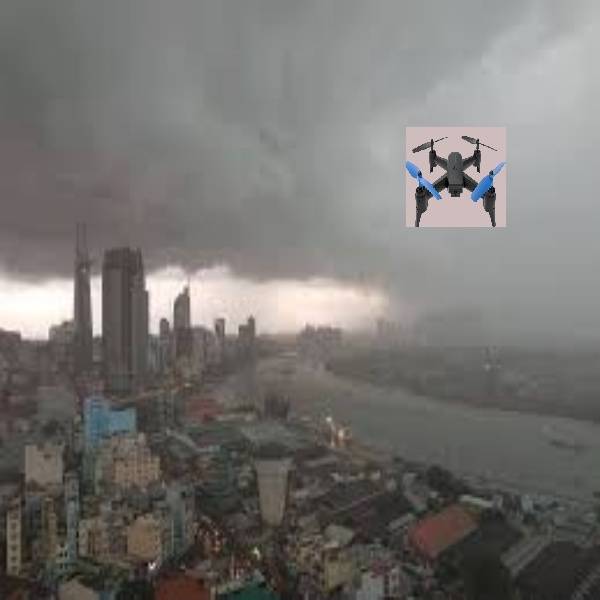drone: (403, 130, 503, 225)
